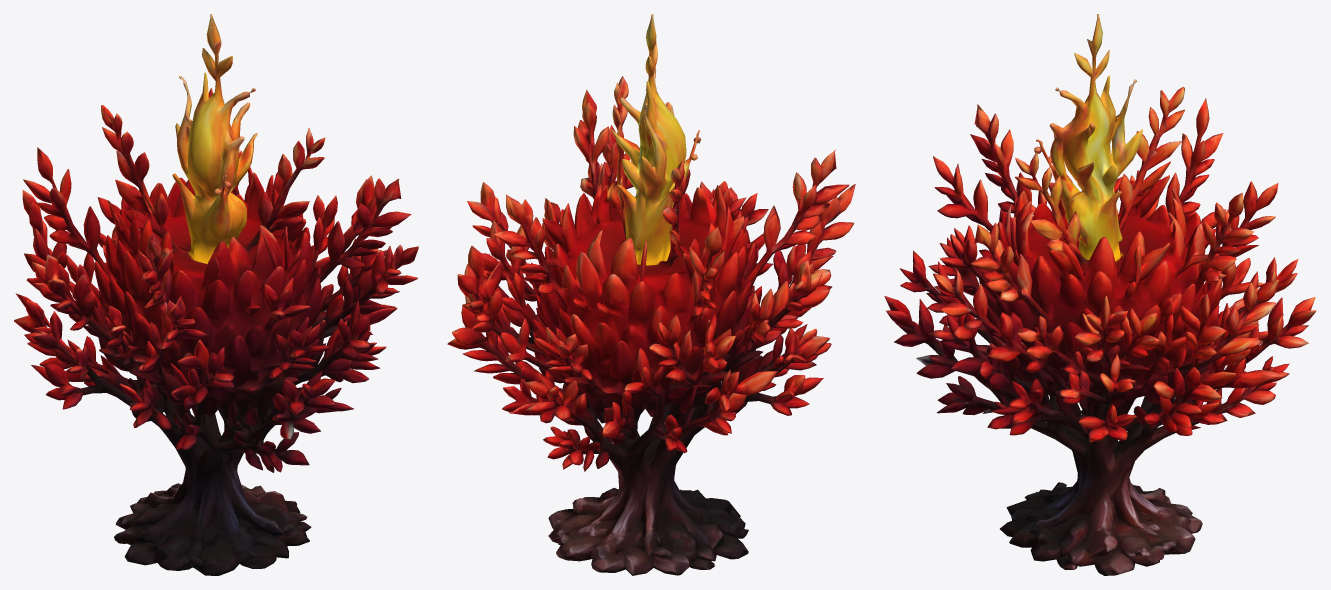
File: craystal_red_tree.glb
3 renders of one model, left to right at view 1: azimuth 30°, elevation 25°; view 2: azimuth 150°, elevation 25°; view 3: azimuth 270°, elevation 25°, orthographic.
Parts seen in each view (by area): view 1: tripo_node_05248033-8239-411f-b301-404cee81e6a1; view 2: tripo_node_05248033-8239-411f-b301-404cee81e6a1; view 3: tripo_node_05248033-8239-411f-b301-404cee81e6a1.
Boxes of the visible parts, x1,y1,x2,y2 form: tripo_node_05248033-8239-411f-b301-404cee81e6a1: (14,14,418,575); tripo_node_05248033-8239-411f-b301-404cee81e6a1: (447,14,855,575); tripo_node_05248033-8239-411f-b301-404cee81e6a1: (884,14,1316,575).
Bounding box in the file's own units: 0.7013 × 0.9789 × 0.7401.
1 material, 1 textured.
